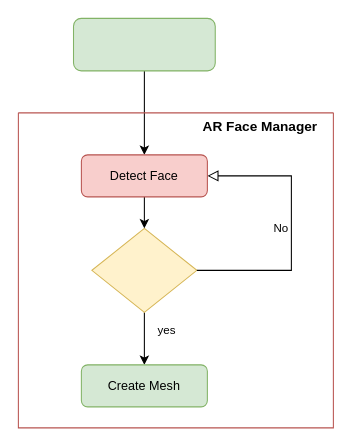
Some shapes in this 352 by 446 pixel diagram are drawn without their labels. Each missing label, with the centre of its shape:
is Face detected: the point at 144,269
Play Face Detection Scene: the point at 143,44
